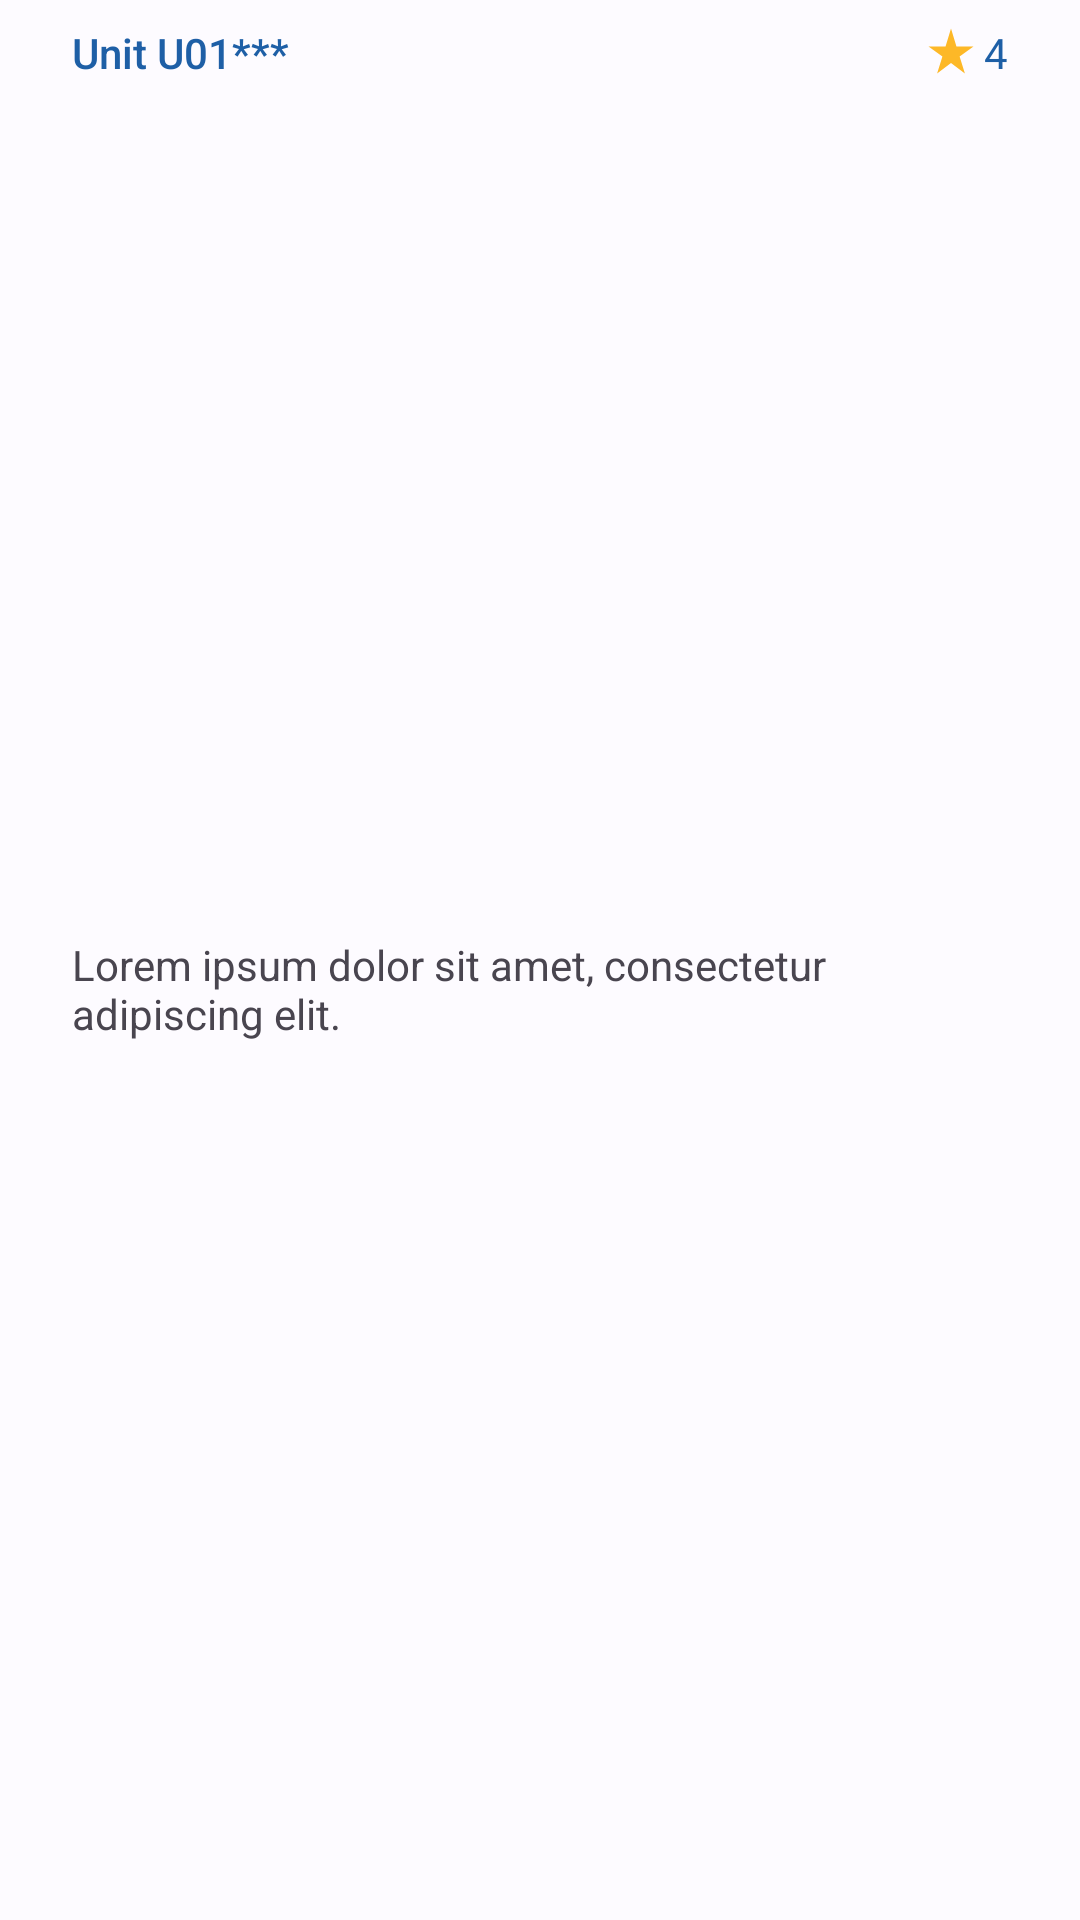

Locate icon controls on the screen. Image size 1080px x 1920px, boxes as {"left": x1, "top": y1, "right": x2, "bottom": y2}.
star rate: {"left": 929, "top": 29, "right": 973, "bottom": 74}
